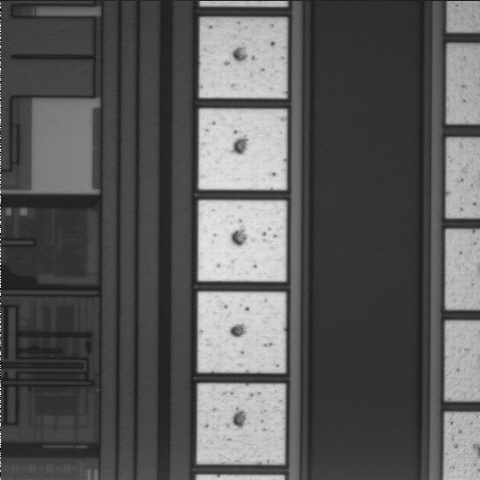pad: (199, 109, 287, 190), (198, 200, 286, 281), (198, 292, 286, 373), (199, 18, 287, 98), (197, 384, 285, 464)
